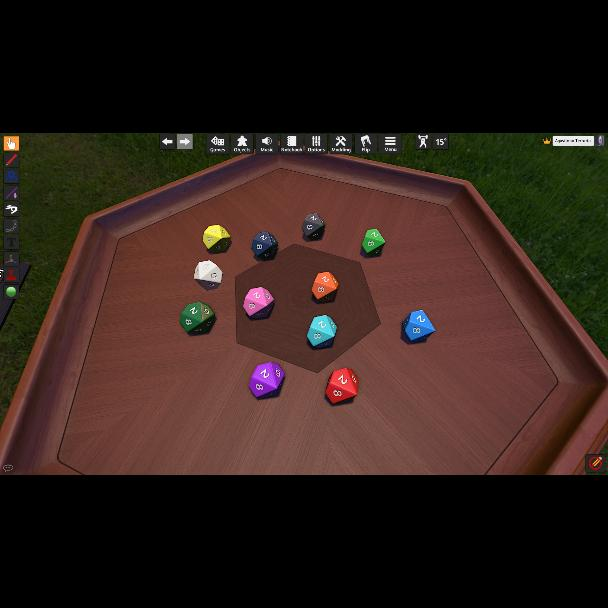d10: (248, 361, 286, 399), (324, 368, 356, 404), (182, 302, 216, 334), (242, 286, 274, 318), (306, 314, 336, 348), (403, 311, 433, 342), (194, 260, 224, 290), (202, 224, 230, 252), (311, 272, 337, 302), (252, 232, 278, 260), (362, 228, 384, 256), (302, 214, 324, 240)
